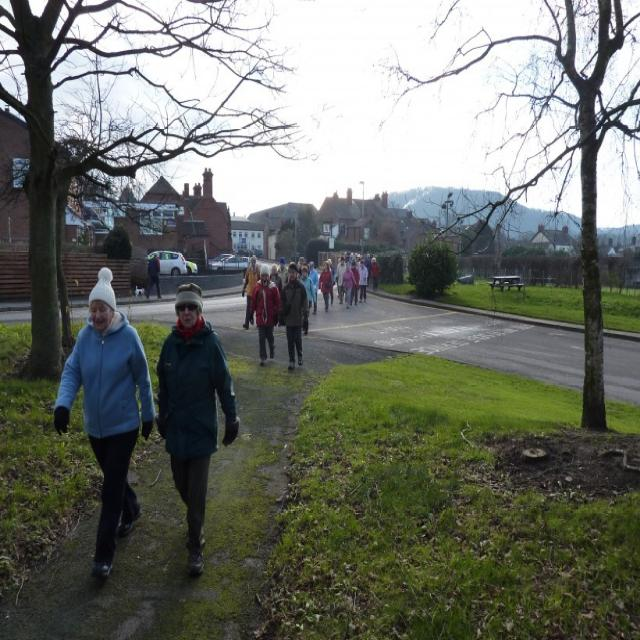body: (54, 262, 156, 582), (153, 280, 240, 580), (247, 262, 282, 368), (280, 260, 309, 372), (241, 253, 262, 326), (297, 263, 316, 335), (284, 261, 302, 331), (144, 250, 163, 300), (269, 262, 283, 328), (317, 259, 334, 312), (339, 260, 356, 309), (308, 260, 320, 315), (335, 256, 347, 305), (357, 258, 368, 303), (275, 256, 289, 290), (350, 260, 360, 306), (327, 258, 336, 306), (369, 256, 380, 292), (364, 253, 372, 287), (296, 255, 308, 276), (344, 249, 364, 260), (336, 280, 340, 299), (354, 260, 359, 270), (348, 260, 352, 269), (337, 256, 341, 264)
